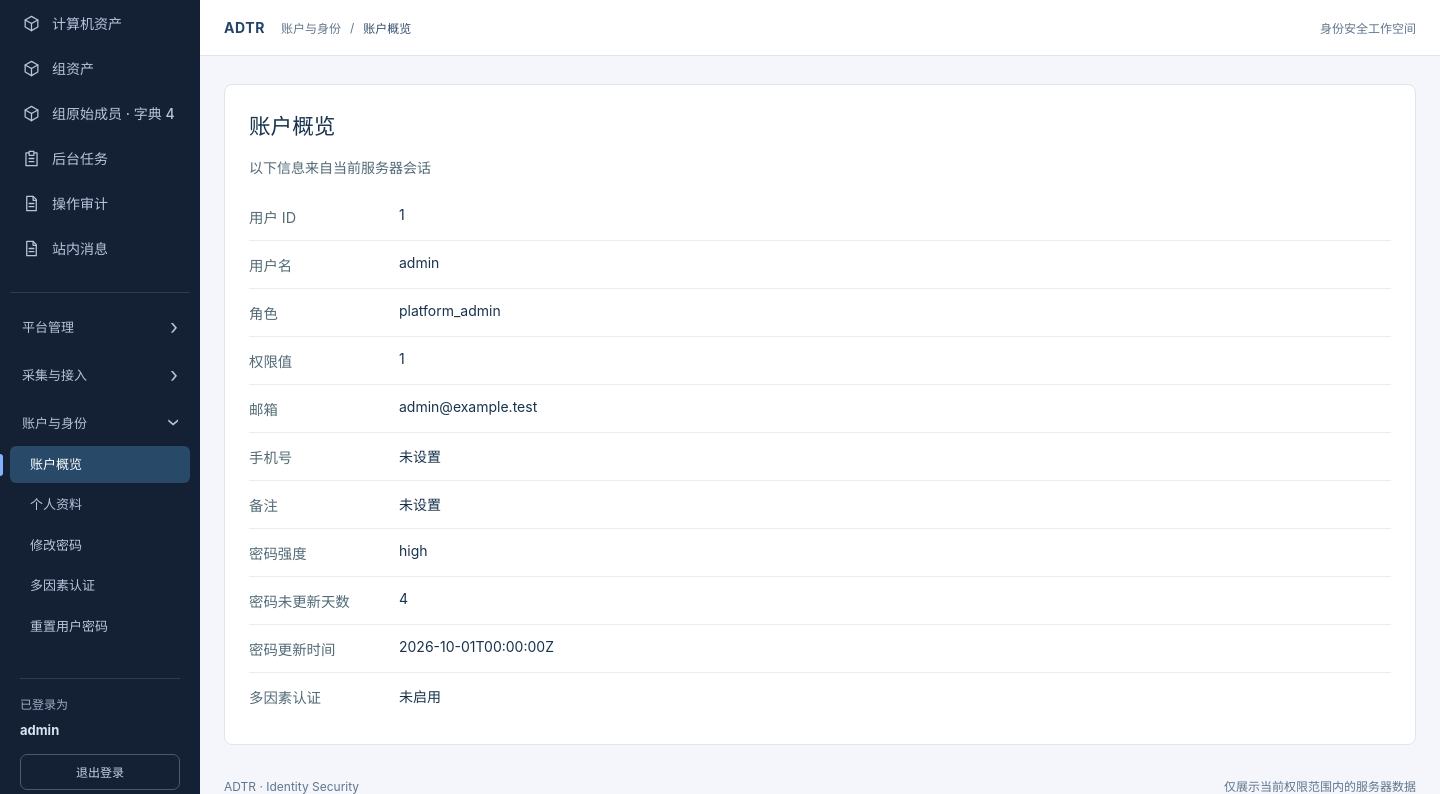
authentication › logs out only after a successful server response
(page scrolled)
Check: the heading "账户概览" is shown, box [249,113,335,139]
Click the button "退出登录". click: (100, 772)
box: [20,754,180,790]
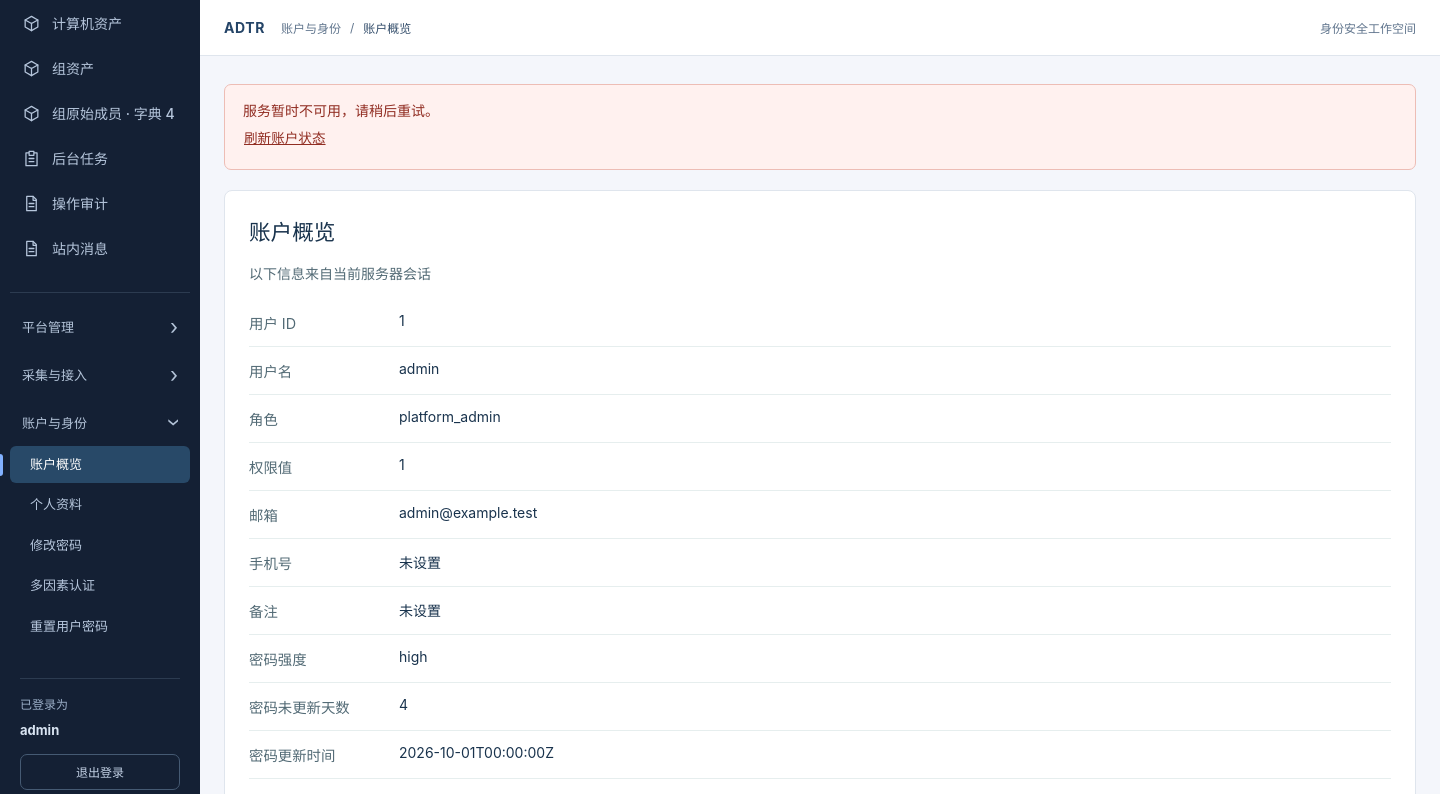
Check: the heading "账户概览" is shown, box [249,218,335,244]
Check: the message shows "服务暂时不可用", box [243,102,439,119]
Click the button "退出登录". click: (100, 772)
box: [20,754,180,790]
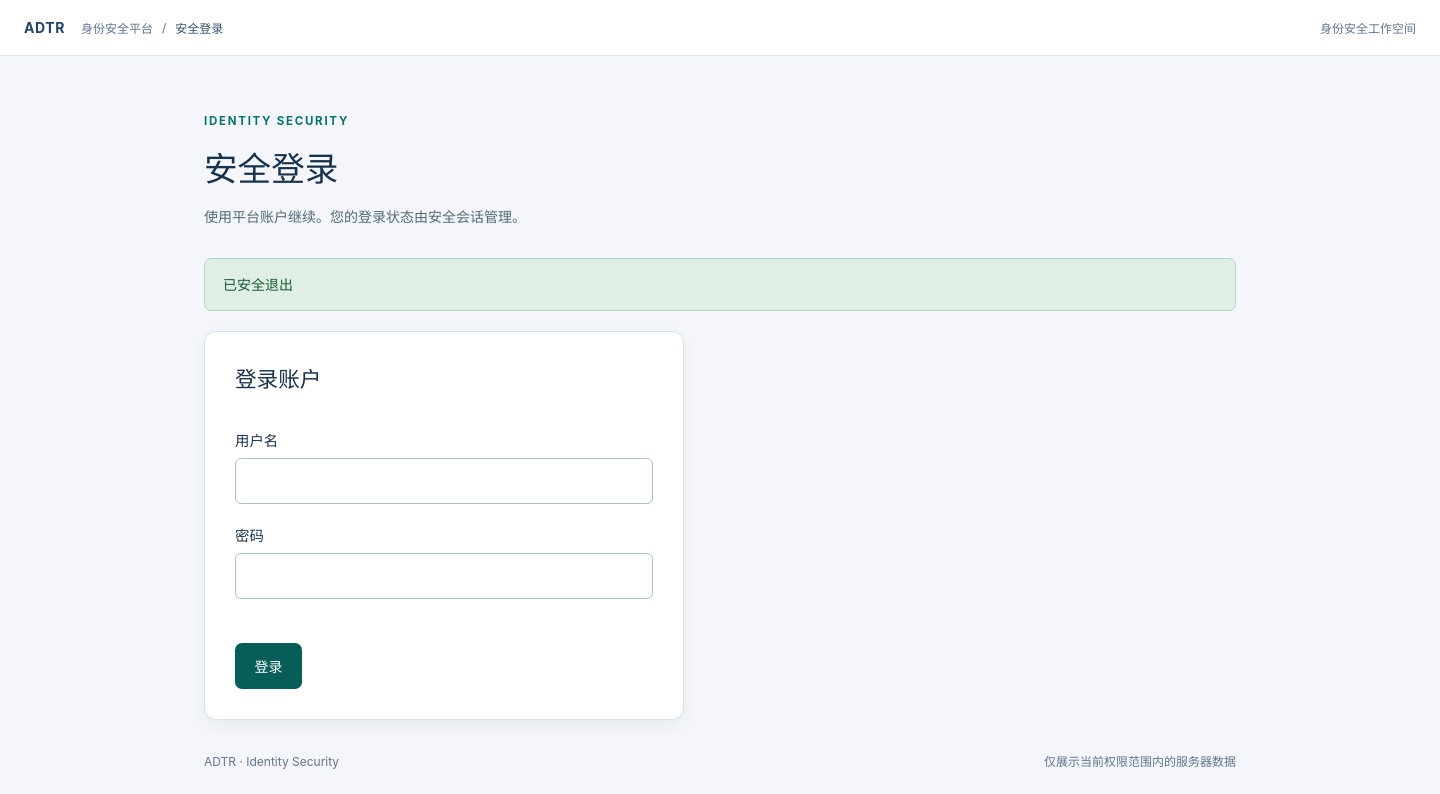
Check: the heading "登录账户" is shown, box [235,366,321,392]
